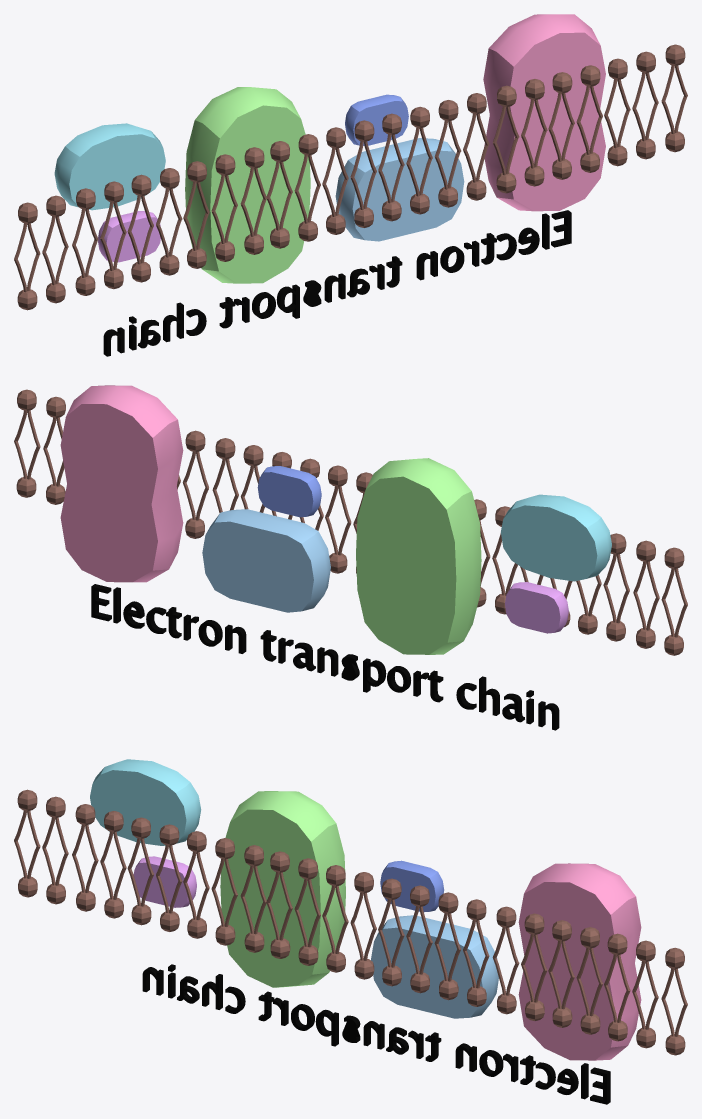
File: Electron transport chain combine.fbx
The picture shows the model from 3 angles, top to bottom: view 1: azimuth 30°, elevation 25°; view 2: azimuth 150°, elevation 25°; view 3: azimuth 330°, elevation 25°; orthographic projection.
Visible parts, largest first — view 1: Electron; view 2: Electron; view 3: Electron.
Part boxes in pixels (bbox=[...]): Electron: bbox=[14, 14, 687, 356]; Electron: bbox=[14, 385, 687, 730]; Electron: bbox=[14, 759, 687, 1104].
Size of the model in its own units: 6.09 by 2.09 by 0.5538.
3 materials, 1 textured.
